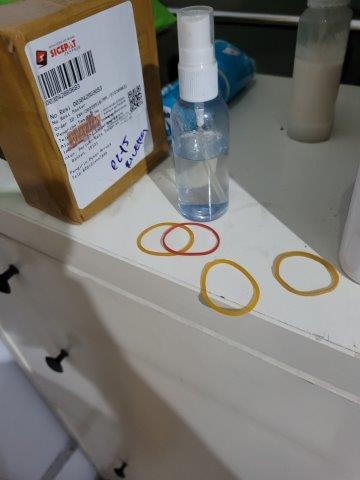karet: (201, 260, 261, 315), (272, 251, 340, 298), (161, 222, 220, 257), (136, 223, 196, 257)
